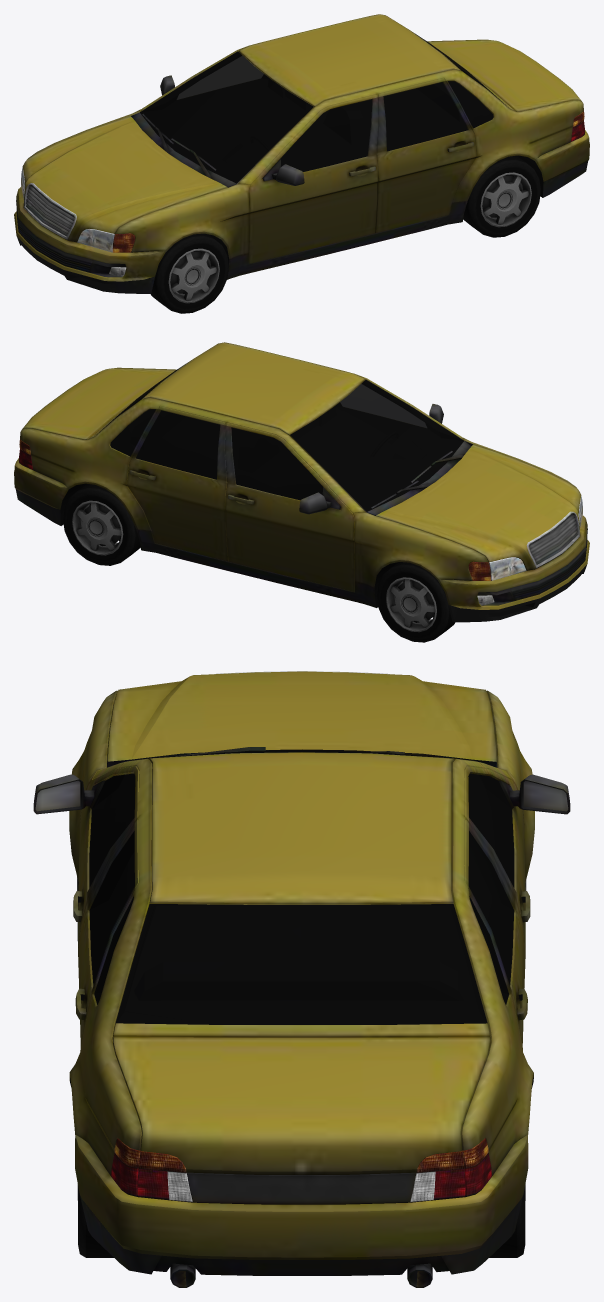
The model's file is traffic_sedan.glb.
3 views of the same model, one above another, from view 1: azimuth 30°, elevation 25°; view 2: azimuth 150°, elevation 25°; view 3: azimuth 270°, elevation 25° (orthographic). The views are drawn at different scales.
Parts seen in each view (by area): view 1: Sedan Body_Body_0, Sedan Body_Glass_0, Wheel_A_Wheel_0, Wheel_A001_Wheel_0, Sedan Body_Optics_0; view 2: Sedan Body_Body_0, Sedan Body_Glass_0, Wheel_A003_Wheel_0, Wheel_A002_Wheel_0, Sedan Body_Optics_0; view 3: Sedan Body_Body_0, Sedan Body_Glass_0, Sedan Body_Optics_0, Wheel_A003_Wheel_0, Wheel_A001_Wheel_0.
Part boxes in pixels (box(x1,y1,x2,y2)): Sedan Body_Body_0: box(14, 14, 589, 293); Sedan Body_Glass_0: box(140, 32, 505, 183); Wheel_A_Wheel_0: box(150, 233, 228, 313); Wheel_A001_Wheel_0: box(463, 155, 540, 237); Sedan Body_Optics_0: box(21, 110, 585, 277); Sedan Body_Body_0: box(14, 342, 589, 622); Sedan Body_Glass_0: box(99, 360, 463, 511); Wheel_A003_Wheel_0: box(63, 484, 140, 565); Wheel_A002_Wheel_0: box(376, 562, 455, 642); Sedan Body_Optics_0: box(18, 438, 582, 605); Sedan Body_Body_0: box(33, 671, 570, 1287); Sedan Body_Glass_0: box(89, 750, 514, 1024); Sedan Body_Optics_0: box(111, 1138, 491, 1202); Wheel_A003_Wheel_0: box(489, 1184, 525, 1257); Wheel_A001_Wheel_0: box(77, 1184, 113, 1257).
Bounding box in the file's own units: 4.36 × 1.34 × 1.94.
Materials: 4 (3 with a texture image).
